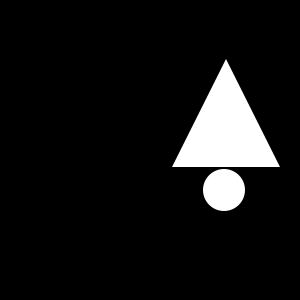rectangle: (203, 169, 245, 211)
triangle: (172, 59, 280, 167)
